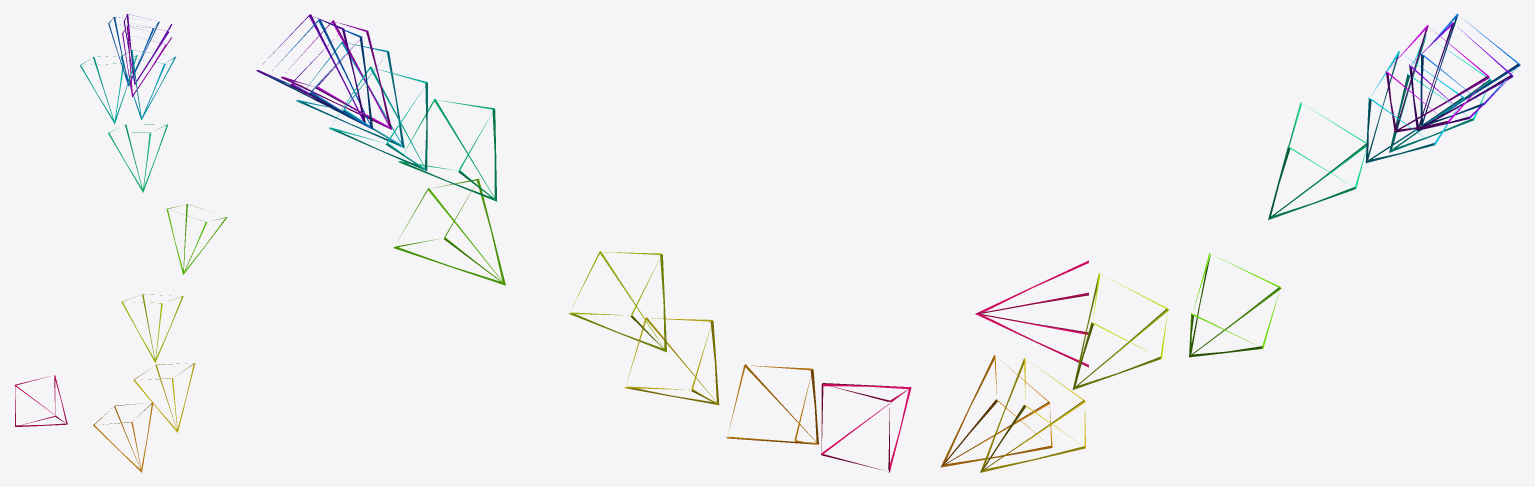
File: wrist_video_100.glb
The picture shows the model from 3 angles, left to right: view 1: azimuth 30°, elevation 25°; view 2: azimuth 150°, elevation 25°; view 3: azimuth 270°, elevation 25°; orthographic projection. The views are drawn at different scales.
Visible parts, largest first — view 1: world; view 2: world; view 3: world.
Boxes of the visible parts, left/top/right/bottom form: world: left=14, top=14, right=227, bottom=472; world: left=256, top=14, right=911, bottom=472; world: left=940, top=14, right=1520, bottom=472.
Bounding box in the file's own units: 0.5645 × 0.6534 × 0.6161.
